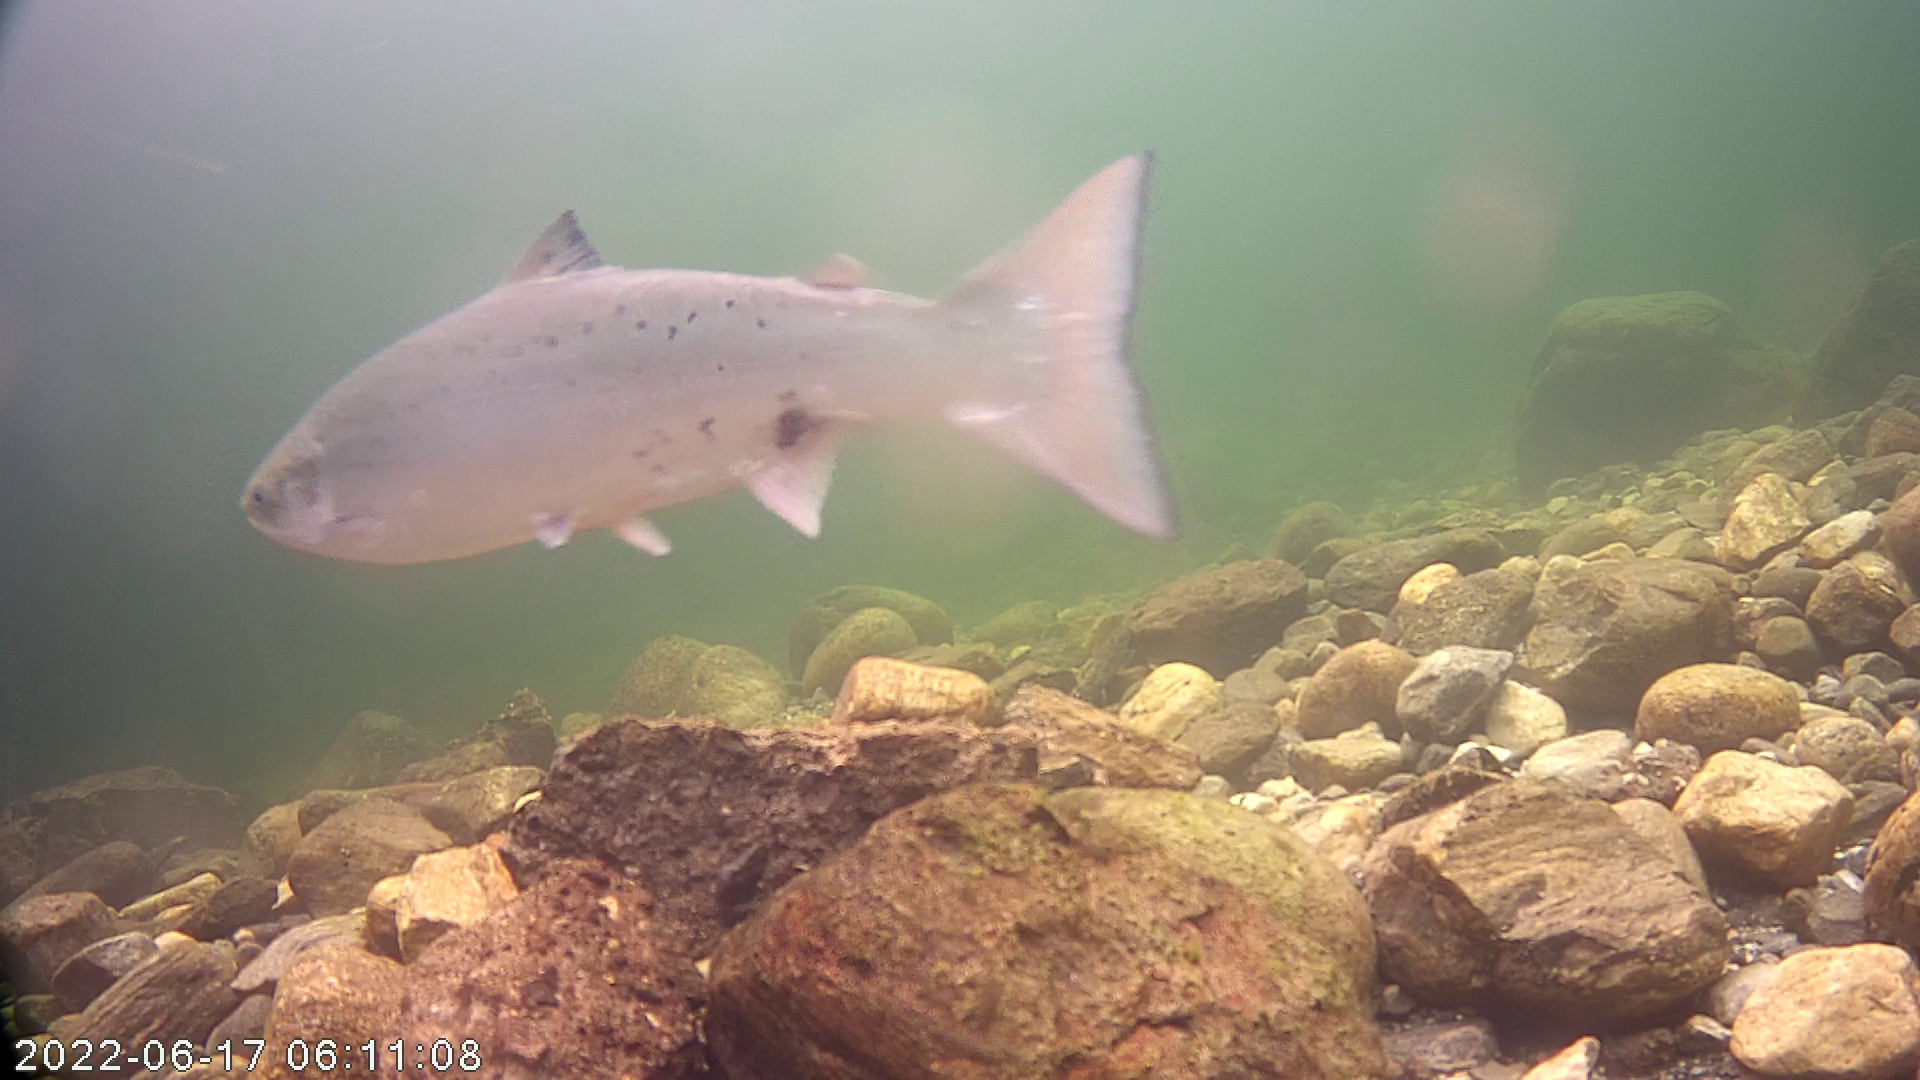salmon: (235, 145, 1182, 568)
